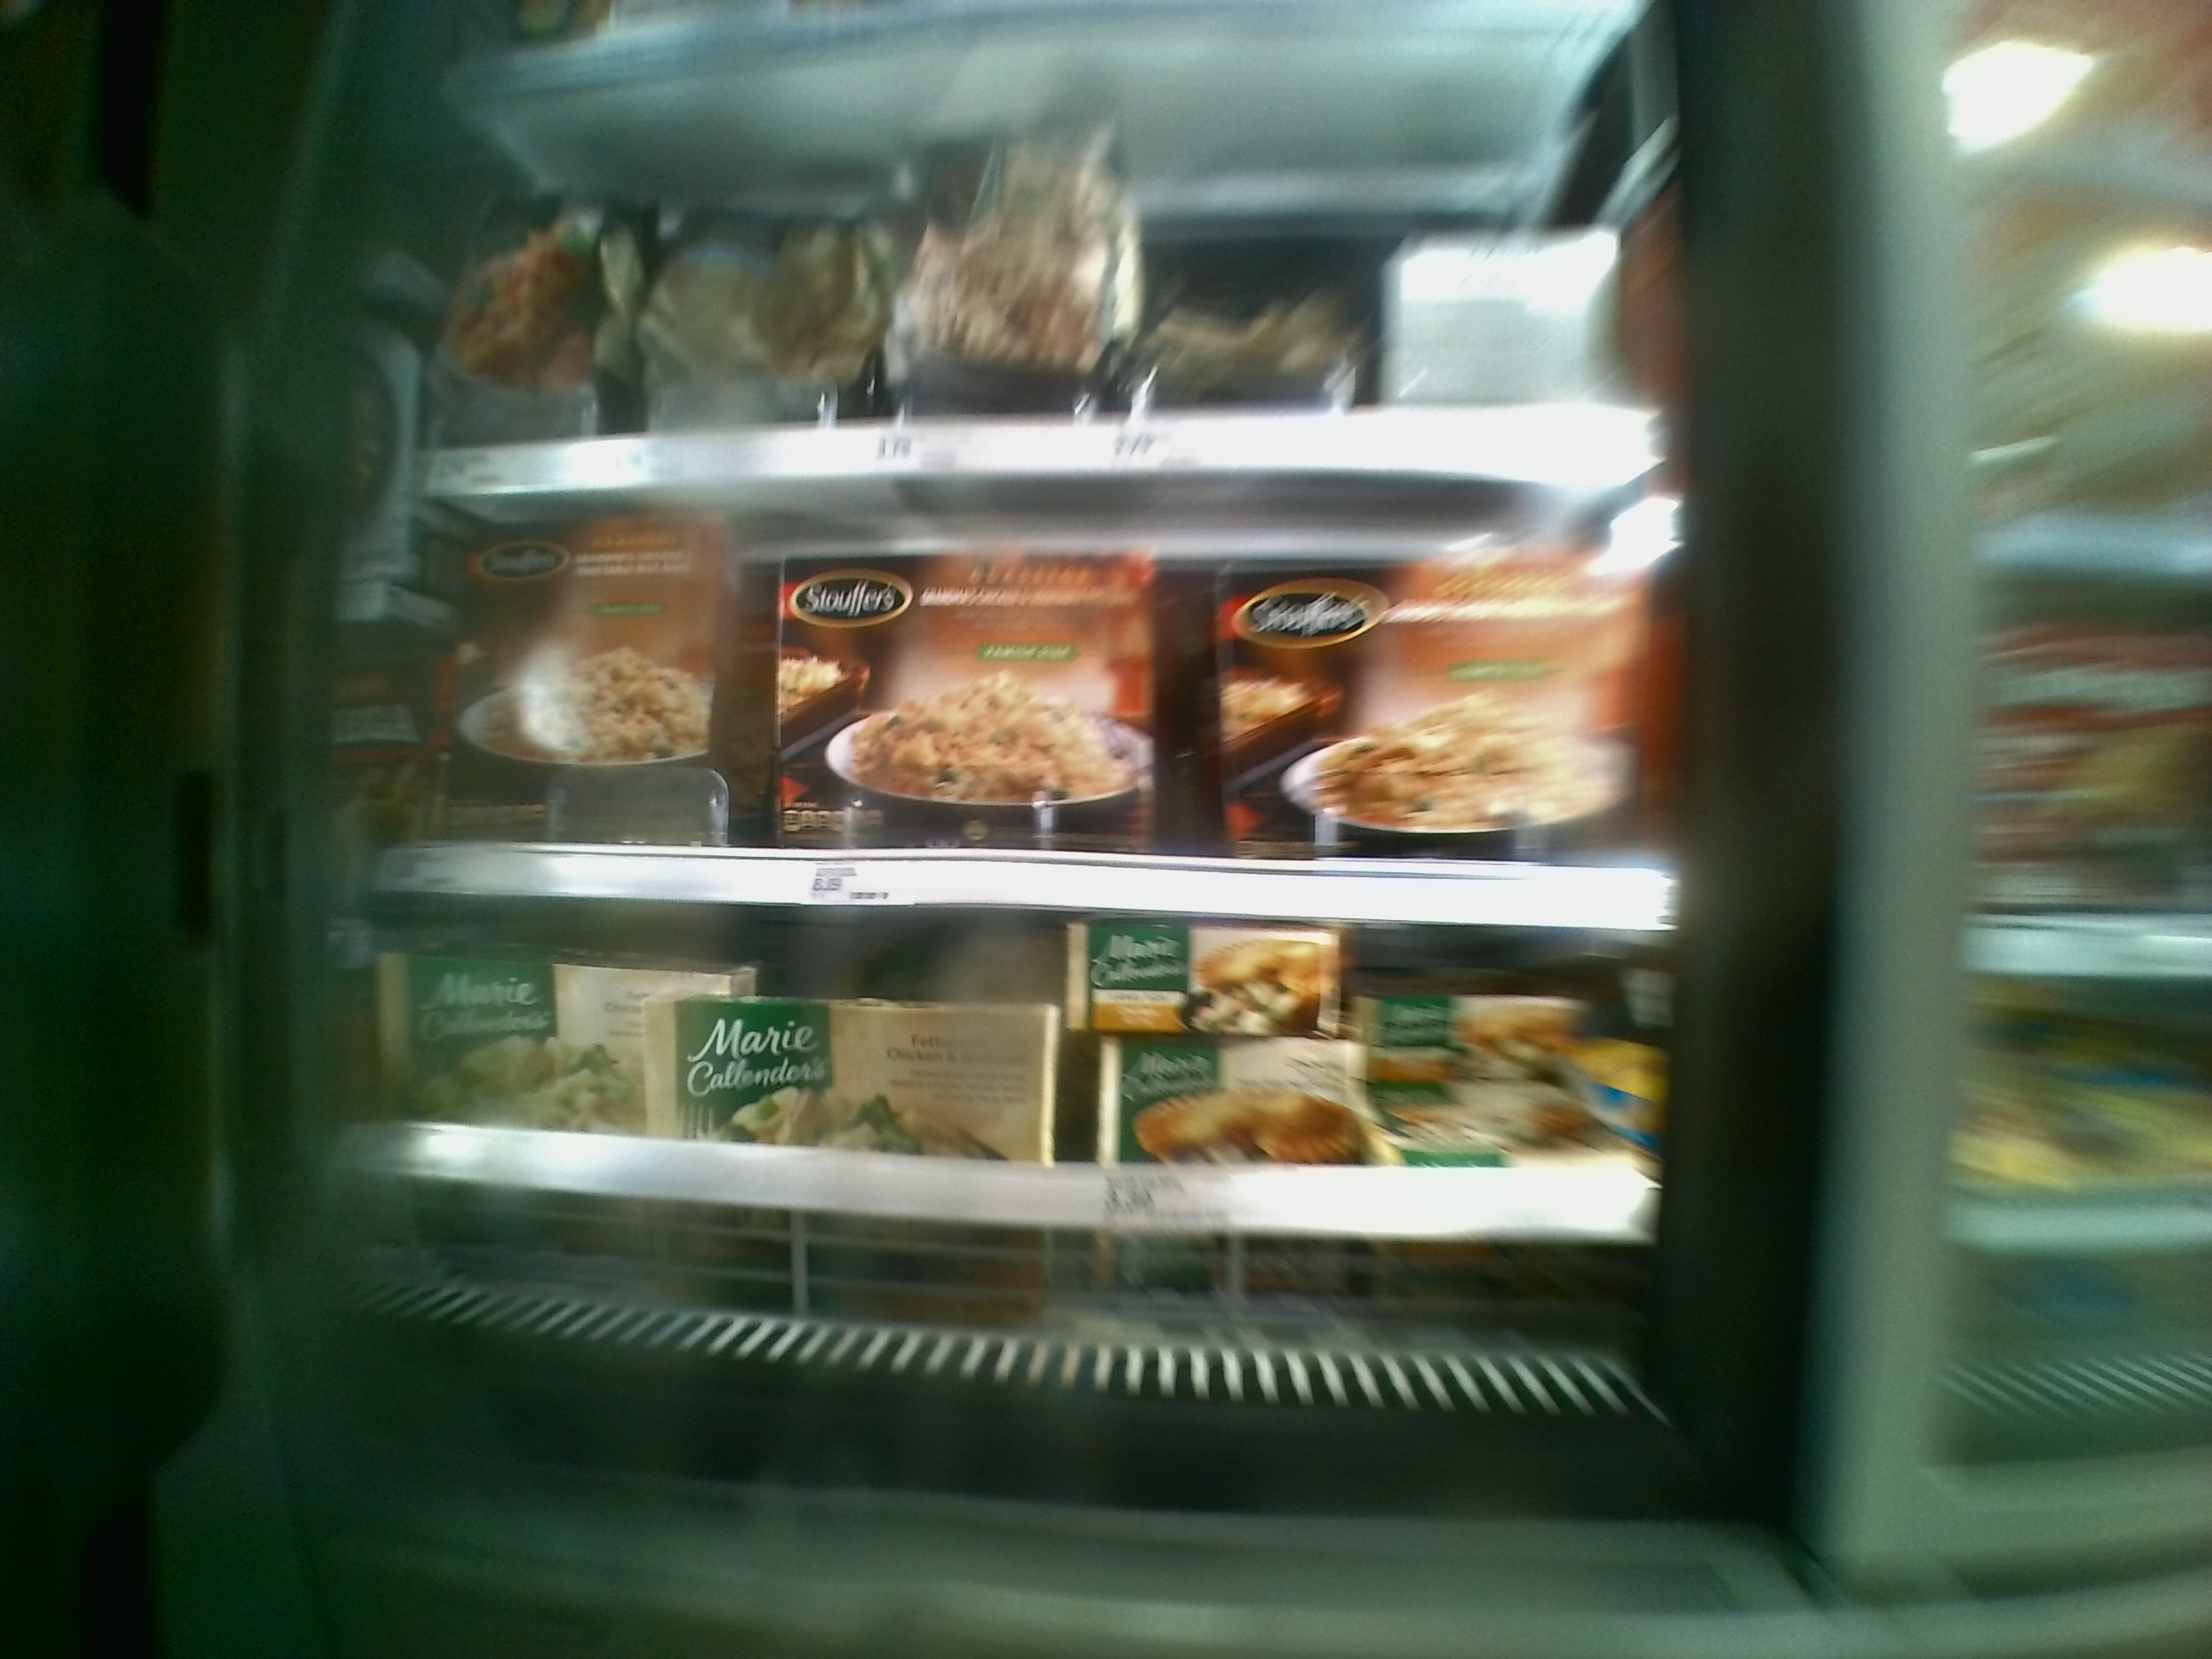shelf: (355, 899, 1646, 1382), (369, 45, 1660, 486), (364, 500, 1637, 908)
